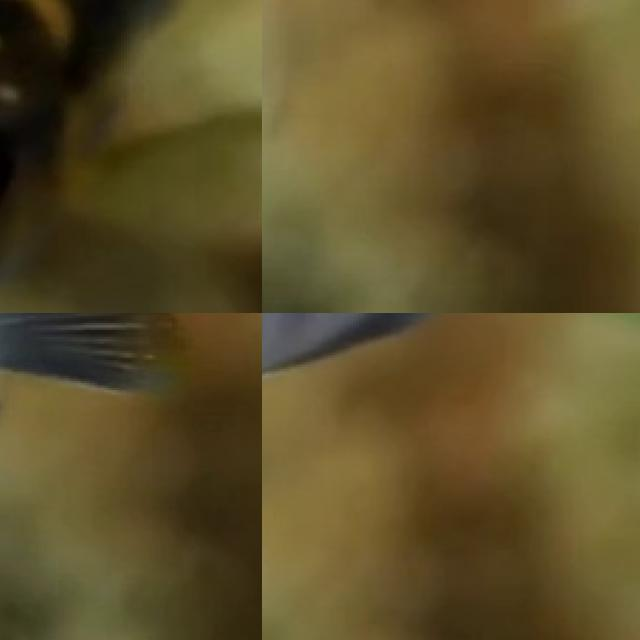fish: (0, 0, 262, 313), (262, 313, 555, 466)
